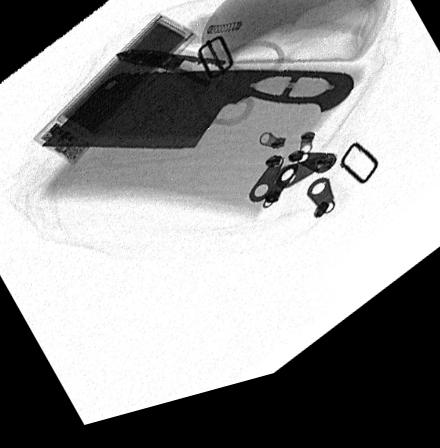Knife: (42, 79, 354, 162)
Powerbank: (33, 22, 197, 168)
Scissors: (114, 54, 285, 138)
